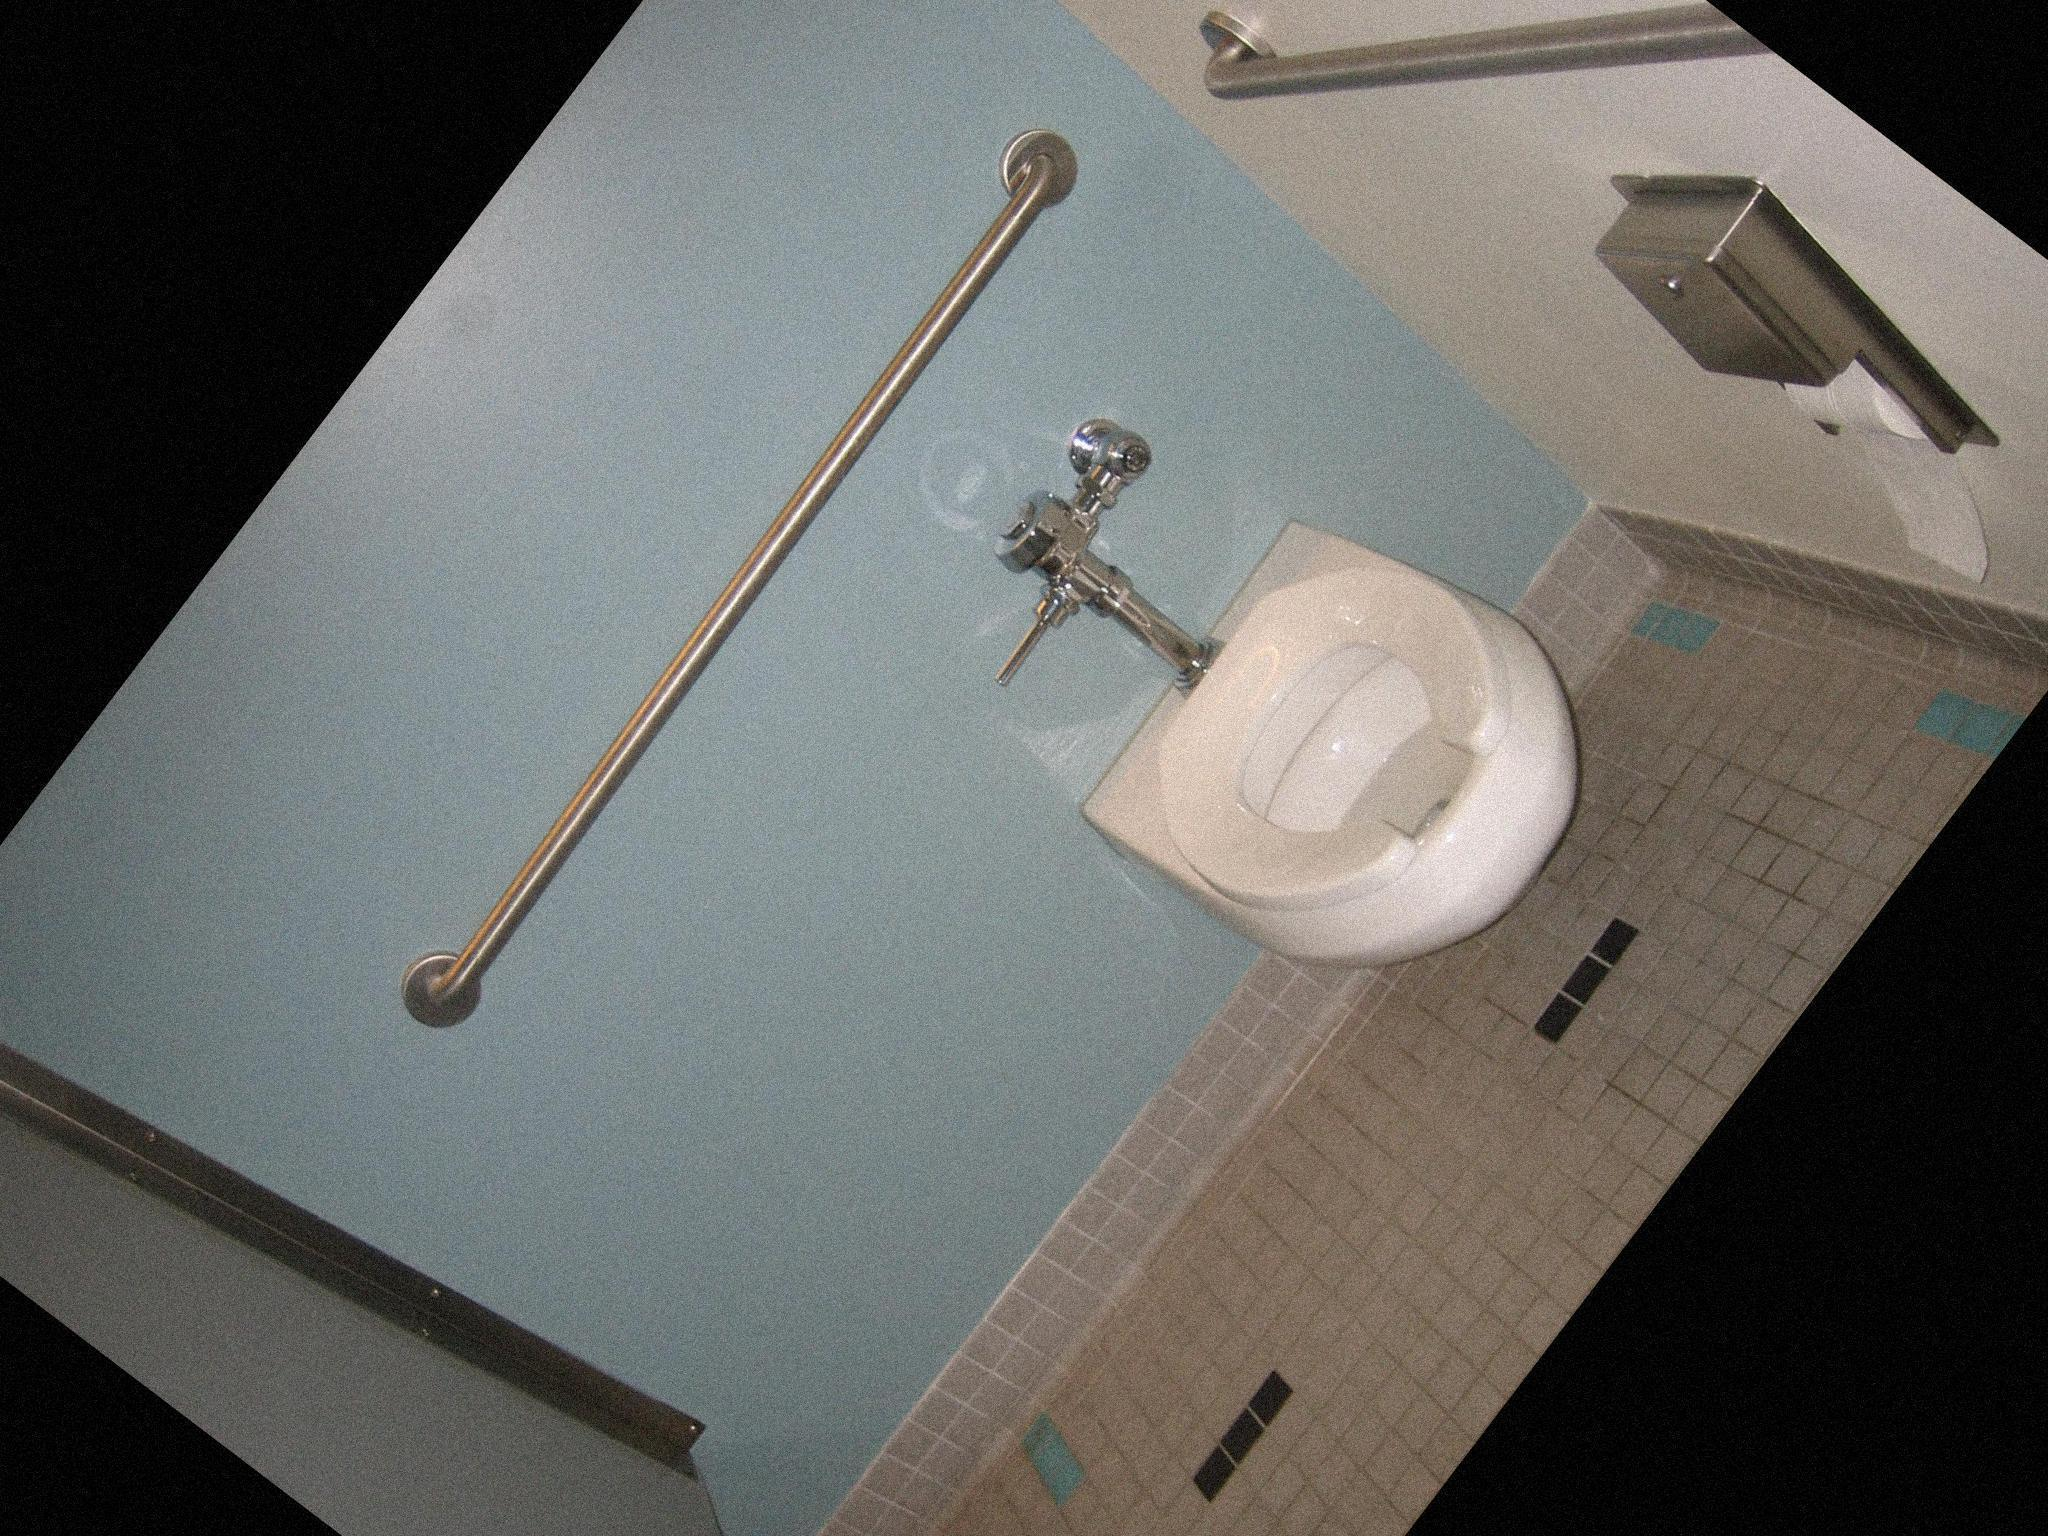Sanitario: (840, 287, 1701, 1107)
